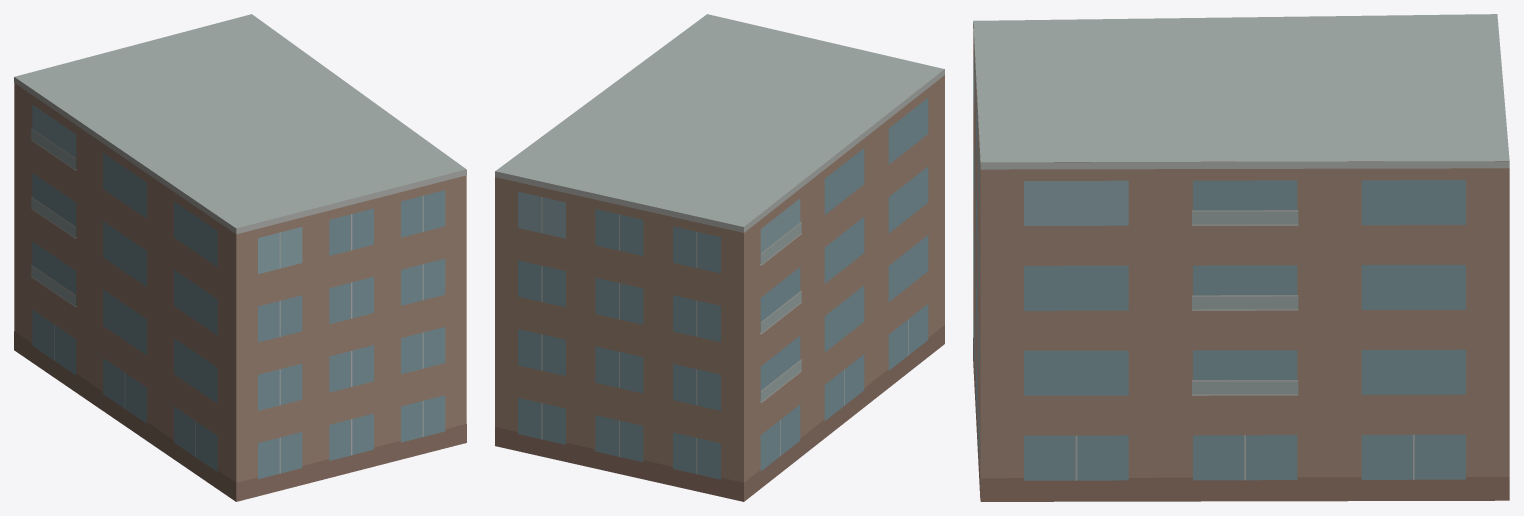
File: survey-upis-32760793.glb
3 views of the same model, side by side, from view 1: azimuth 30°, elevation 25°; view 2: azimuth 150°, elevation 25°; view 3: azimuth 270°, elevation 25° (orthographic). The views are drawn at different scales.
Visible parts, largest first — view 1: survey-upis-32760793.tmp; view 2: survey-upis-32760793.tmp; view 3: survey-upis-32760793.tmp.
Part boxes in pixels (x1,y1,x2,y2): survey-upis-32760793.tmp: (14, 14, 466, 501); survey-upis-32760793.tmp: (495, 14, 944, 501); survey-upis-32760793.tmp: (973, 14, 1509, 501).
Size of the model in its own units: 10.68 by 11.4 by 16.33.
